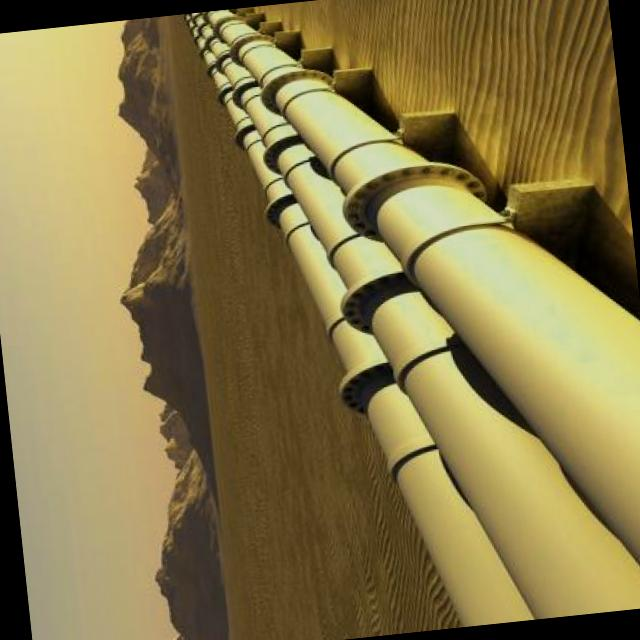gas: (192, 11, 640, 619), (199, 8, 640, 567), (179, 12, 534, 626)
